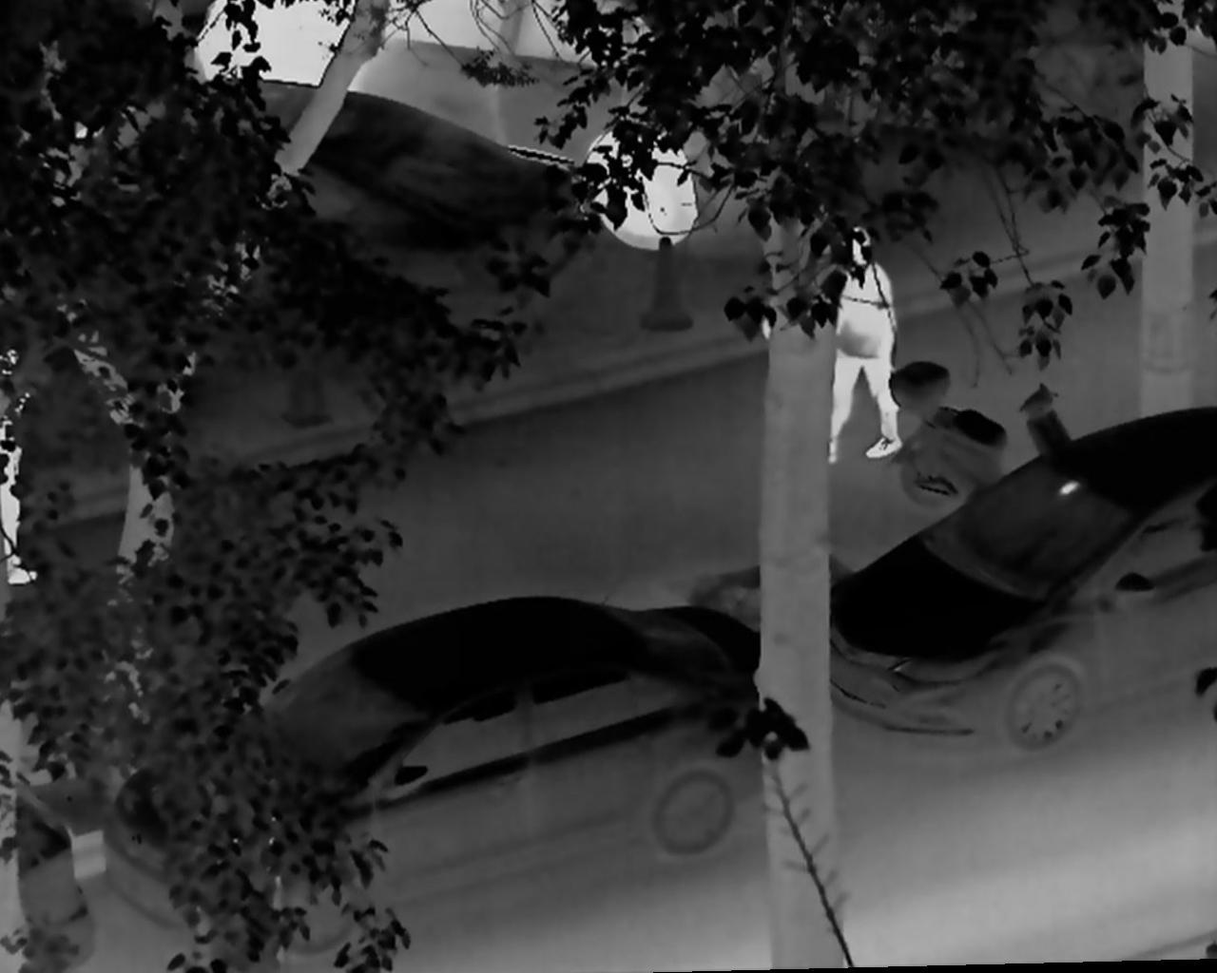person: (826, 219, 907, 465), (754, 283, 784, 350)
